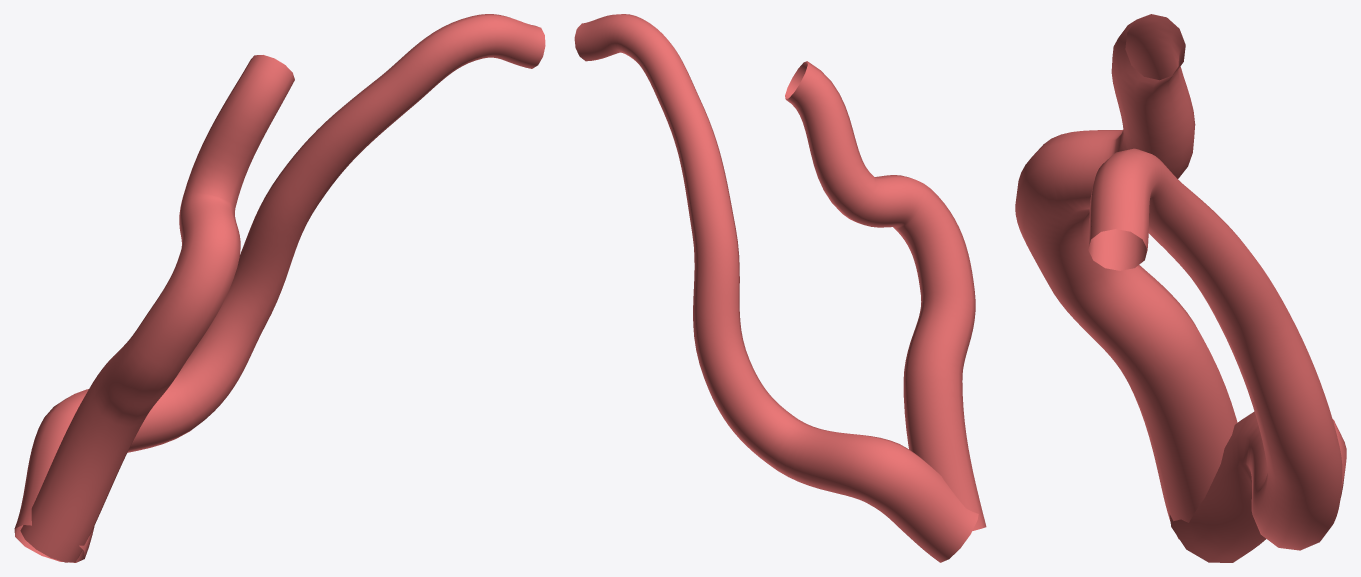
File: Insular_arteries_(M2_segment_of_Middle_cerebral_artery).l_Bezie.glb
3 renders of one model, left to right at view 1: azimuth 30°, elevation 25°; view 2: azimuth 150°, elevation 25°; view 3: azimuth 270°, elevation 25°, orthographic. The views are drawn at different scales.
Visible parts, largest first — view 1: Insular_arteries_(M2_segment_of_Middle_cerebral_artery).l_Be; view 2: Insular_arteries_(M2_segment_of_Middle_cerebral_artery).l_Be; view 3: Insular_arteries_(M2_segment_of_Middle_cerebral_artery).l_Be.
Boxes of the visible parts, left/top/right/bottom form: Insular_arteries_(M2_segment_of_Middle_cerebral_artery).l_Be: left=14, top=14, right=545, bottom=562; Insular_arteries_(M2_segment_of_Middle_cerebral_artery).l_Be: left=574, top=14, right=986, bottom=562; Insular_arteries_(M2_segment_of_Middle_cerebral_artery).l_Be: left=1015, top=14, right=1346, bottom=562.
Bounding box in the file's own units: 0.0203 × 0.0196 × 0.00887.
